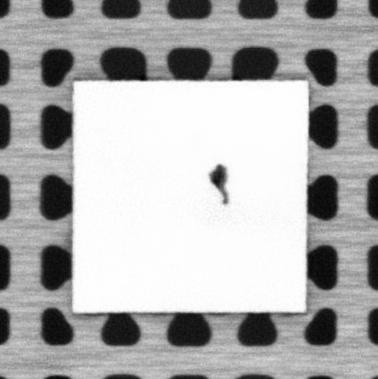DIE_INK: (208, 162, 231, 206)
